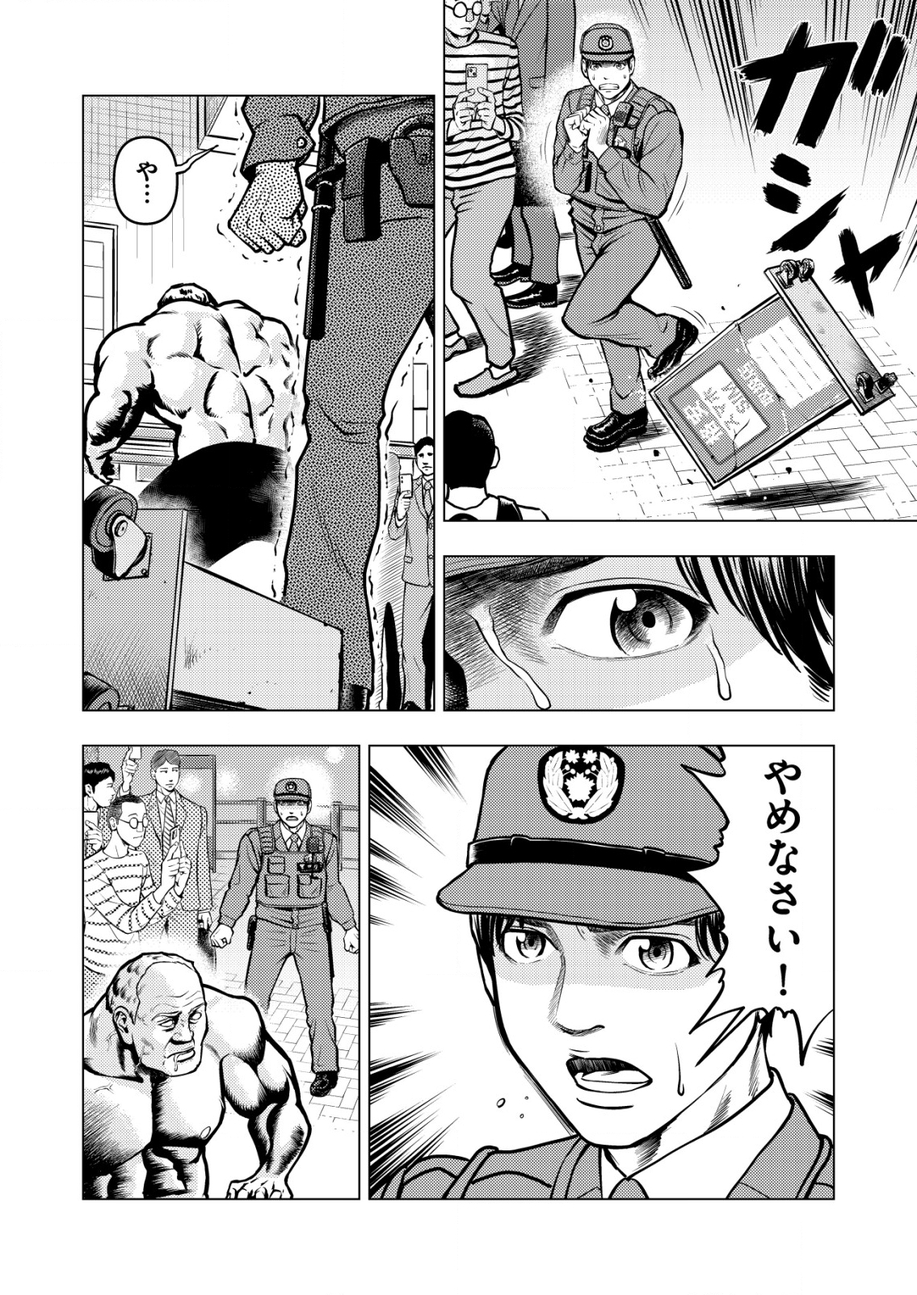bubbles: (675, 747, 835, 1071)
